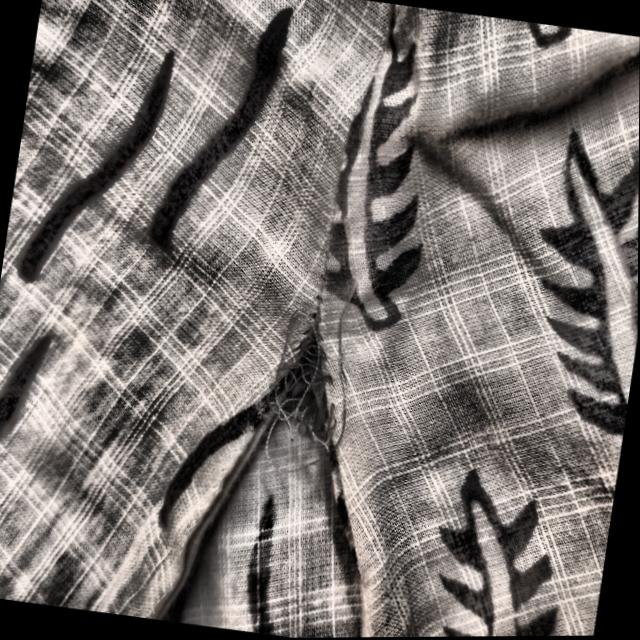Stitch: (256, 259, 376, 486)
